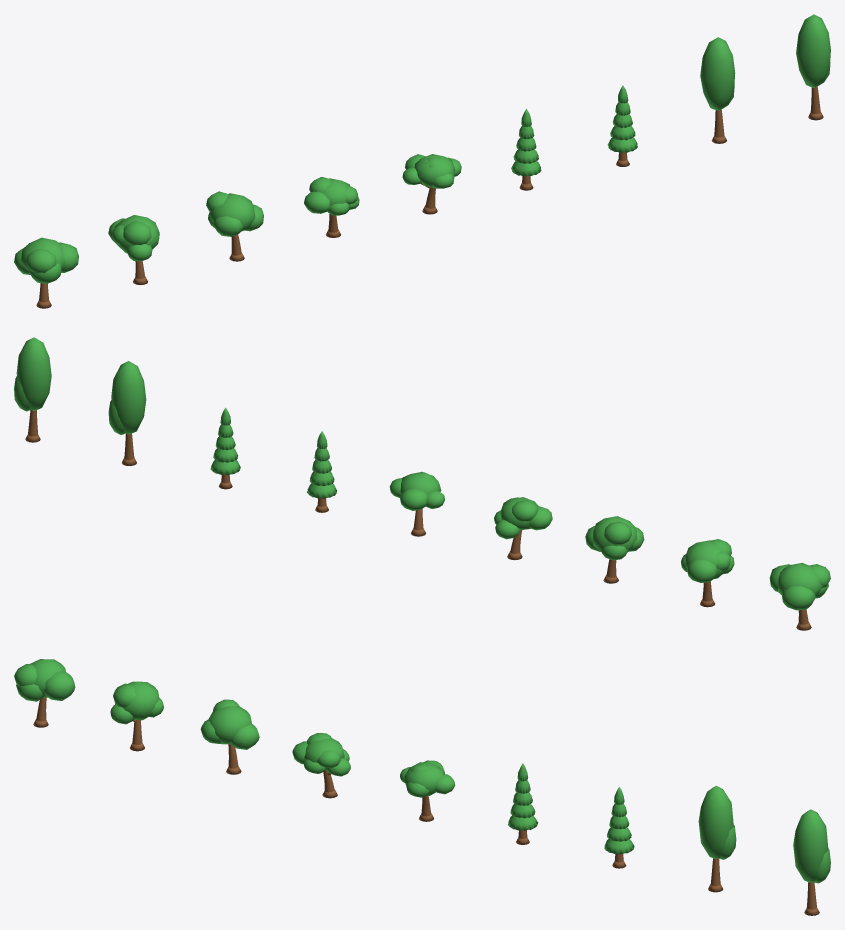
The model's file is trees.glb.
3 views of the same model, one above another, from view 1: azimuth 30°, elevation 25°; view 2: azimuth 150°, elevation 25°; view 3: azimuth 330°, elevation 25° (orthographic).
Parts seen in each view (by area): view 1: Tree_round_0, Tree_tall_0, Tree_tall_1, Tree_round_2, Tree_round_1, Tree_blossom_1, Tree_blossom_0, Tree_pine_0, Tree_pine_1; view 2: Tree_tall_1, Tree_tall_0, Tree_round_0, Tree_round_2, Tree_round_1, Tree_blossom_0, Tree_blossom_1, Tree_pine_0, Tree_pine_1; view 3: Tree_tall_1, Tree_tall_0, Tree_round_0, Tree_round_2, Tree_blossom_0, Tree_round_1, Tree_blossom_1, Tree_pine_1, Tree_pine_0.
Boxes of the visible parts, <box> form: Tree_round_0: <box>14,237,78,308</box>; Tree_tall_0: <box>700,37,735,143</box>; Tree_tall_1: <box>796,14,830,120</box>; Tree_round_2: <box>206,191,263,261</box>; Tree_round_1: <box>108,215,159,284</box>; Tree_blossom_1: <box>402,154,461,214</box>; Tree_blossom_0: <box>304,177,359,237</box>; Tree_pine_0: <box>511,109,541,190</box>; Tree_pine_1: <box>607,85,637,166</box>; Tree_tall_1: <box>14,337,51,442</box>; Tree_tall_0: <box>108,361,146,465</box>; Tree_round_0: <box>769,562,830,630</box>; Tree_round_2: <box>585,516,644,583</box>; Tree_round_1: <box>681,539,734,607</box>; Tree_blossom_0: <box>494,497,552,560</box>; Tree_blossom_1: <box>389,471,444,536</box>; Tree_pine_0: <box>307,431,336,512</box>; Tree_pine_1: <box>210,407,240,489</box>; Tree_tall_1: <box>793,809,830,915</box>; Tree_tall_0: <box>698,785,736,892</box>; Tree_round_0: <box>14,659,75,727</box>; Tree_round_2: <box>200,699,259,774</box>; Tree_blossom_0: <box>292,733,350,798</box>; Tree_round_1: <box>110,681,163,751</box>; Tree_blossom_1: <box>400,760,455,821</box>; Tree_pine_1: <box>604,787,634,868</box>; Tree_pine_0: <box>508,763,537,844</box>.
Bounding box in the file's own units: 50.19 × 6.15 × 3.73.
